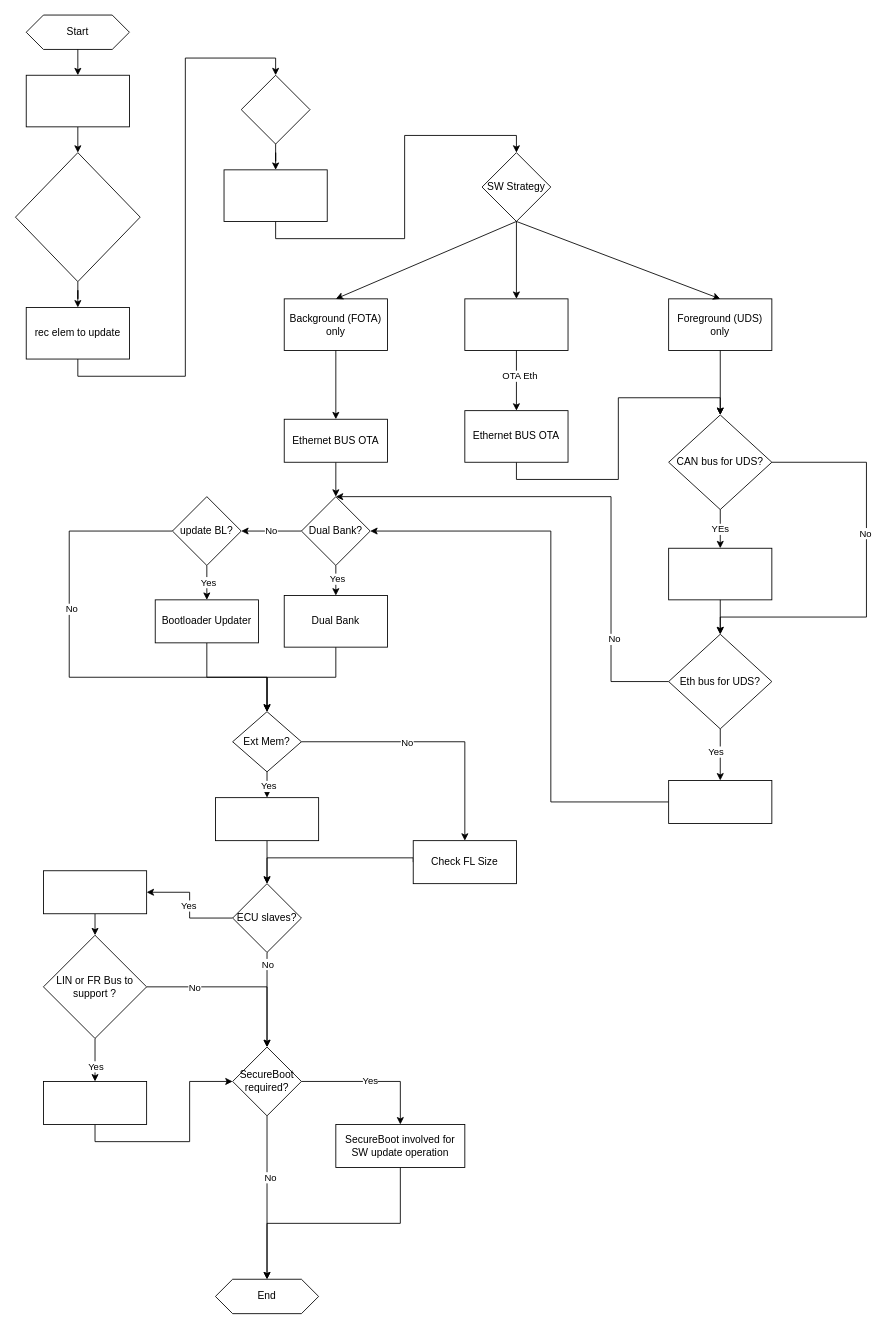
The diagram is 888 pixels wide and 1329 high, and some of its shapes have lost their labels. The centre of each missing label's shape, as x and y in pixels:
"Add LIN or Flexray Bus" belongs at [95,1102].
"Boot Manager" belongs at [77,100].
"Both" belongs at [516,324].
"BSP code FL driver" belongs at [267,819].
"CAN/CAN-FD bus" belongs at [720,573].
"ECU slave to Up" belongs at [95,892].
"Element to update? App, data, BL, Swt, HSM" belongs at [77,217].
"Ethernet BUS UDS" belongs at [720,801].
"OEM Spec" belongs at [275,195].
"OEM Specs?" belongs at [275,109].
